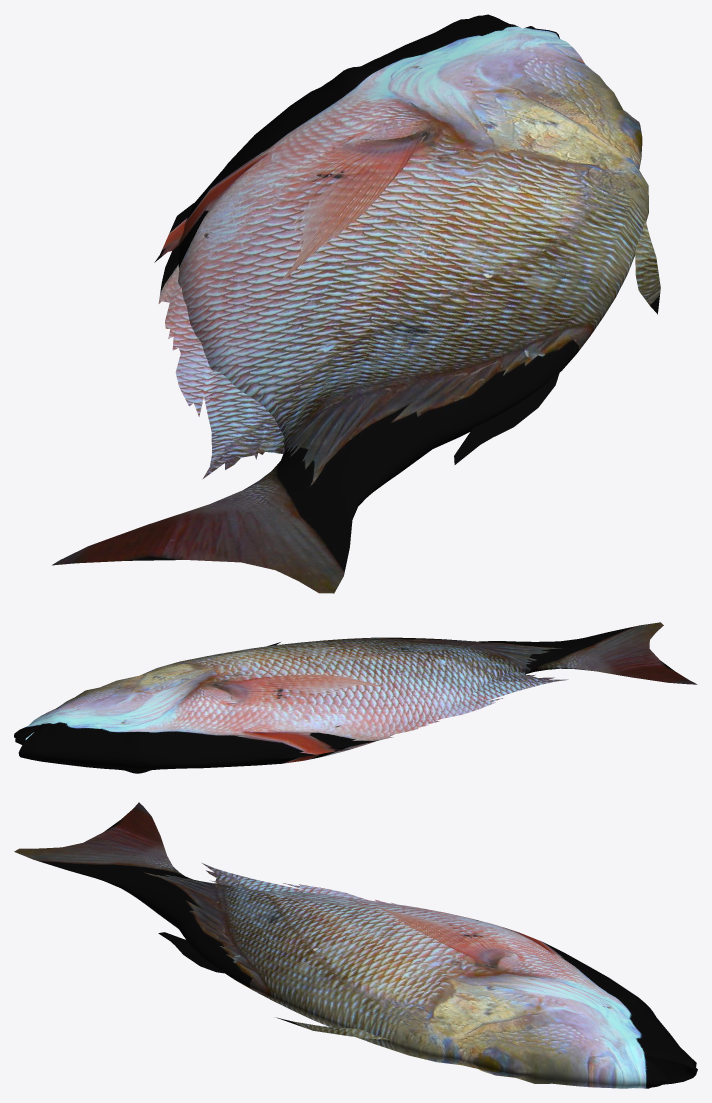
File: fish.glb
The picture shows the model from 3 angles, top to bottom: view 1: azimuth 30°, elevation 25°; view 2: azimuth 150°, elevation 25°; view 3: azimuth 270°, elevation 25°; orthographic projection. The views are drawn at different scales.
Visible parts, largest first — view 1: fish_body; view 2: fish_body; view 3: fish_body.
Part boxes in pixels (x1,y1,x2,y2): fish_body: [52, 14, 660, 593]; fish_body: [14, 622, 697, 773]; fish_body: [14, 802, 697, 1088].
Size of the model in its own units: 0.256 by 0.0342 by 0.27.
Materials: 1 (1 with a texture image).
